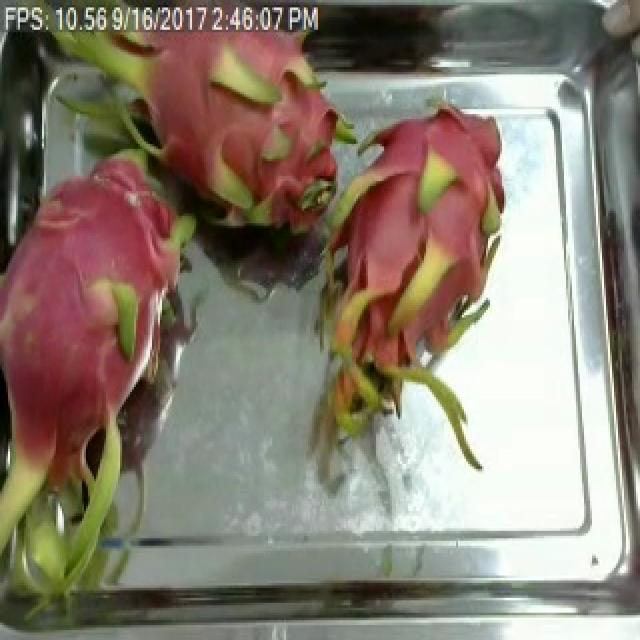Fruit: (326, 154, 444, 317), (180, 201, 322, 315)
